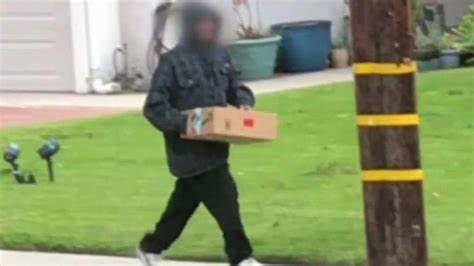package: (178, 104, 281, 146)
